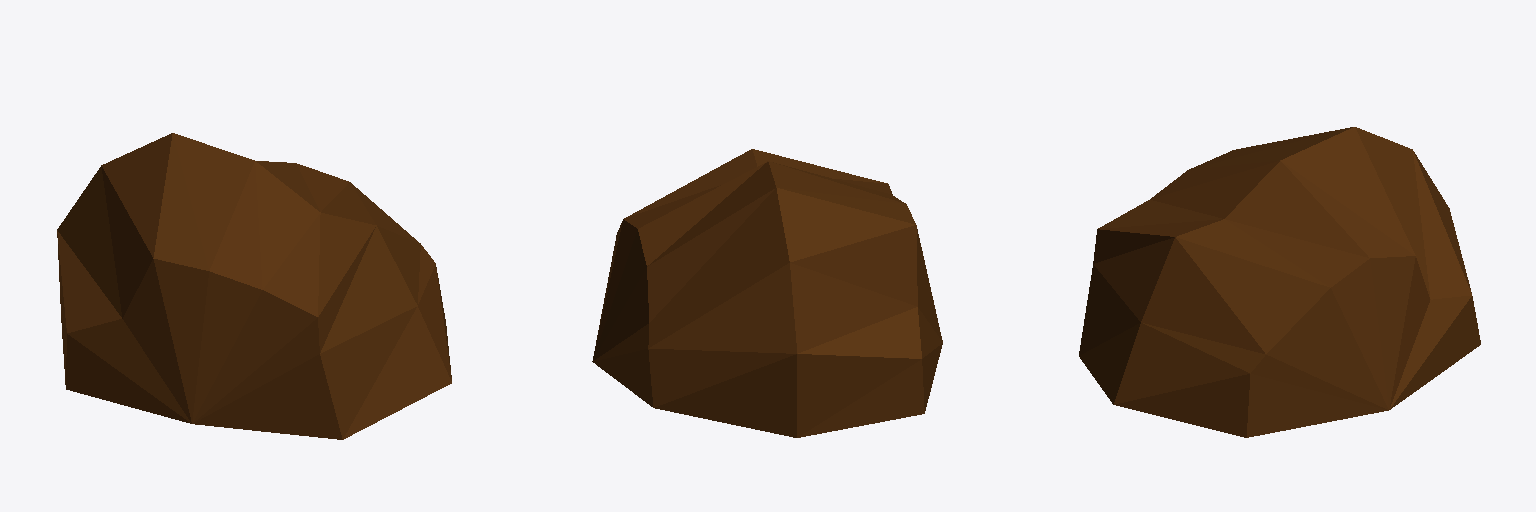
File: rock.obj
The picture shows the model from 3 angles: view 1: azimuth 30°, elevation 25°; view 2: azimuth 150°, elevation 25°; view 3: azimuth 270°, elevation 25°; orthographic projection.
Visible parts, largest first — view 1: rock; view 2: rock; view 3: rock.
Part boxes in pixels (left/top/right/bottom): rock: left=57, top=133, right=451, bottom=439; rock: left=592, top=149, right=942, bottom=437; rock: left=1079, top=127, right=1480, bottom=437.
Bounding box in the file's own units: 0.8778 × 0.5175 × 0.8821.